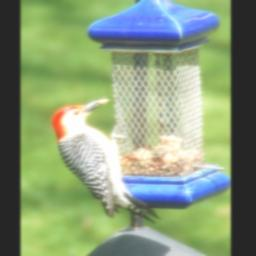Woodpecker: (52, 93, 167, 229)
